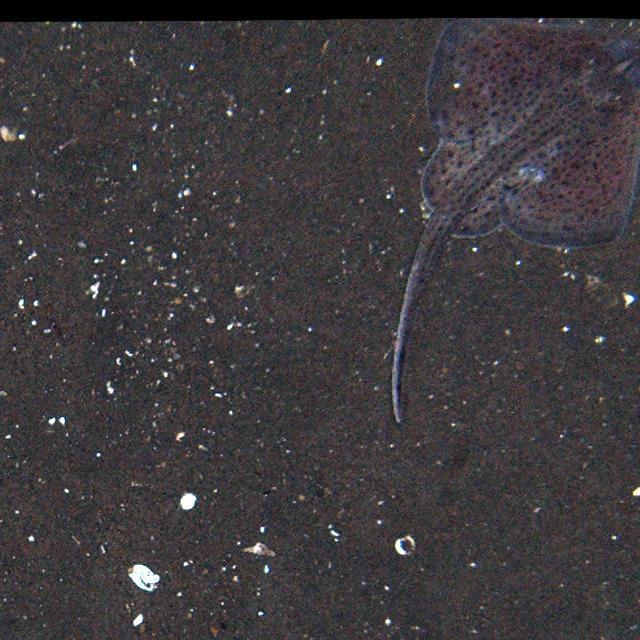skate: (375, 11, 637, 426)
